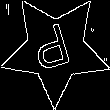P_S: (31, 20, 80, 79)
